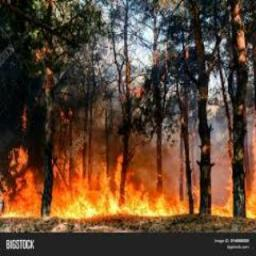Medium fire: (0, 134, 256, 222)
